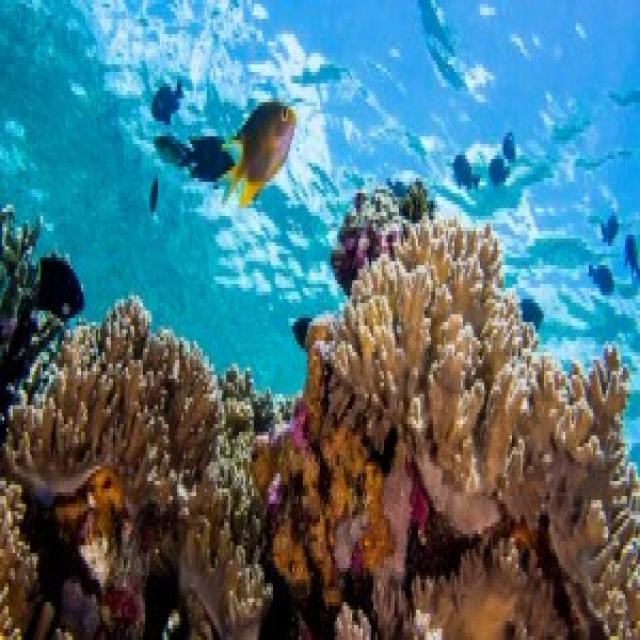Healthy: (293, 224, 639, 637), (5, 300, 283, 637), (332, 179, 434, 293), (1, 478, 37, 637)
